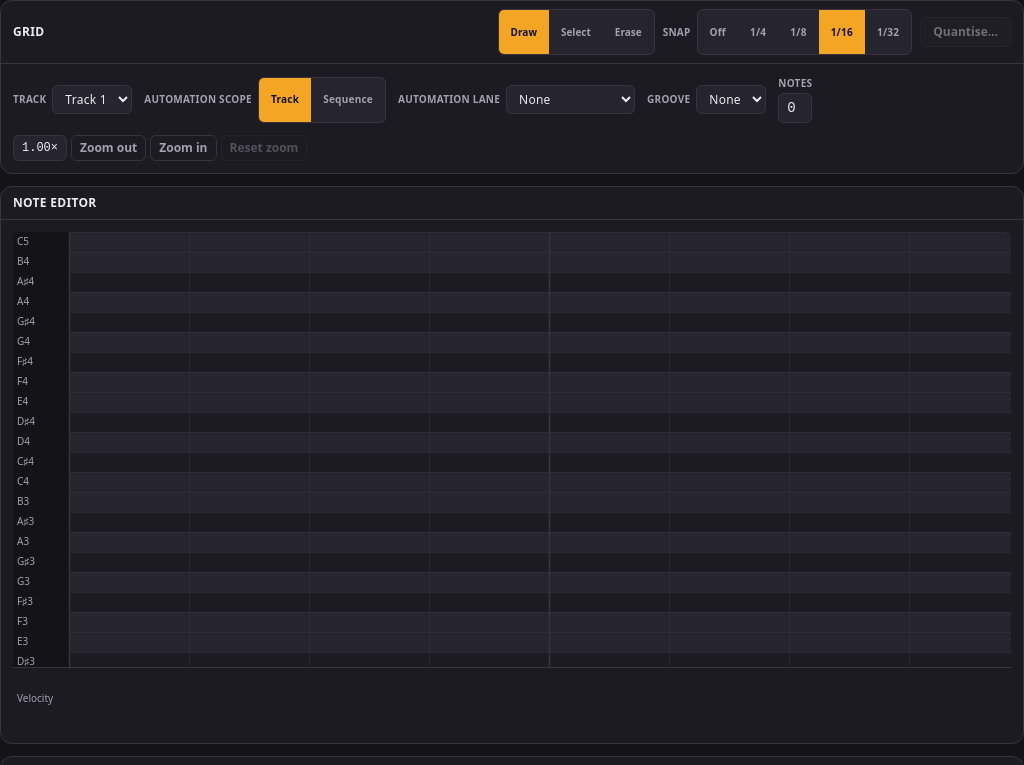
Test: authoring automation points (spec §7.8) › refuses to edit a lane the registry does not recognise (spec §7.8 gate)
The width and height of the screenshot is (1024, 765).
Click the radio button labelled "Sequence".
click(348, 100)  # box [311, 78, 385, 122]
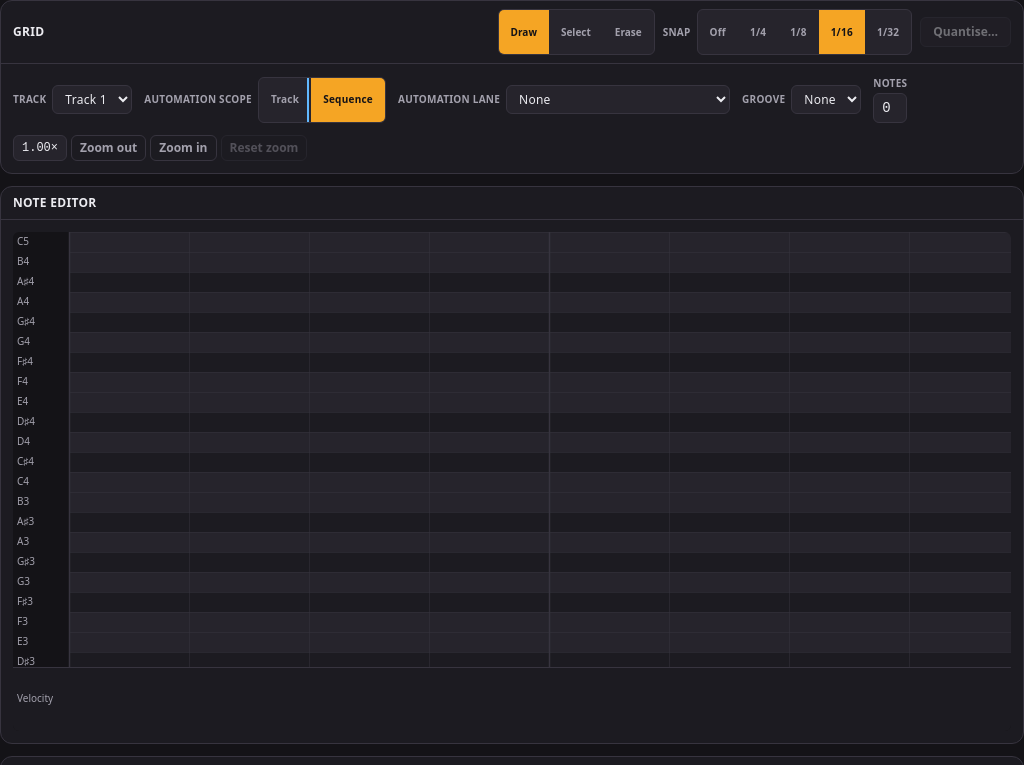
Select "legacy.path (not automatable in this build)" in the dropdown labelled "Automation lane" at (618, 100), box [506, 85, 730, 114]
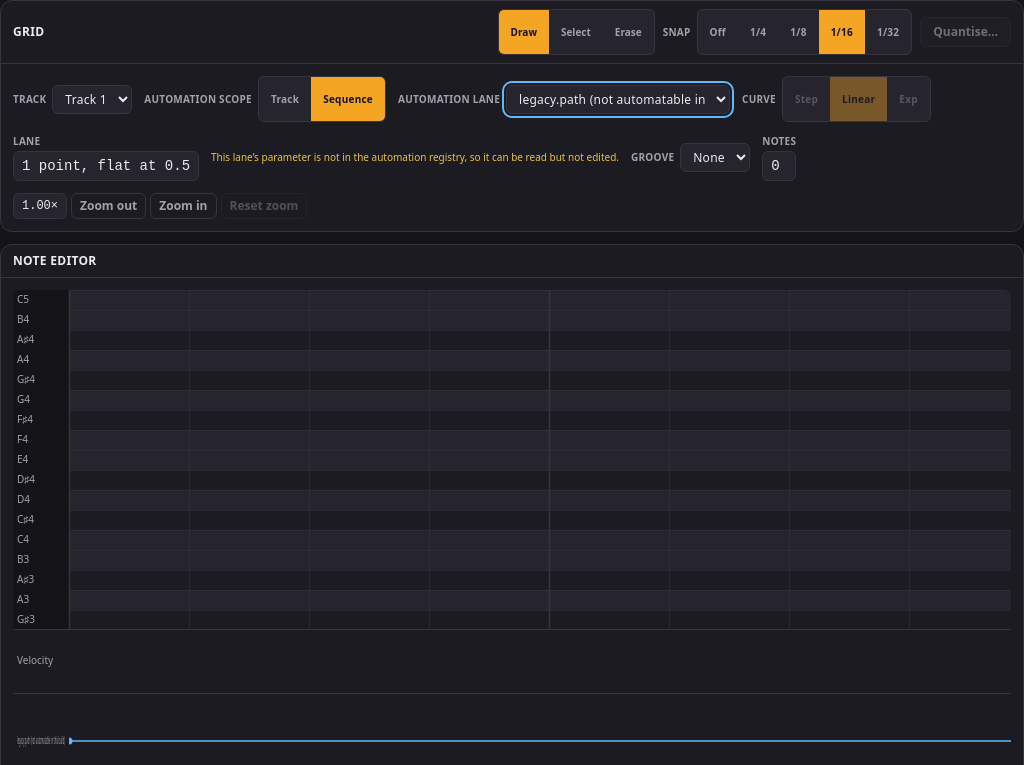
Now the text with test id "grid-automation-readonly" is shown, box [211, 150, 619, 165]
Now the text with test id "grid-automation-summary" shows "1 point", box [22, 158, 190, 174]
